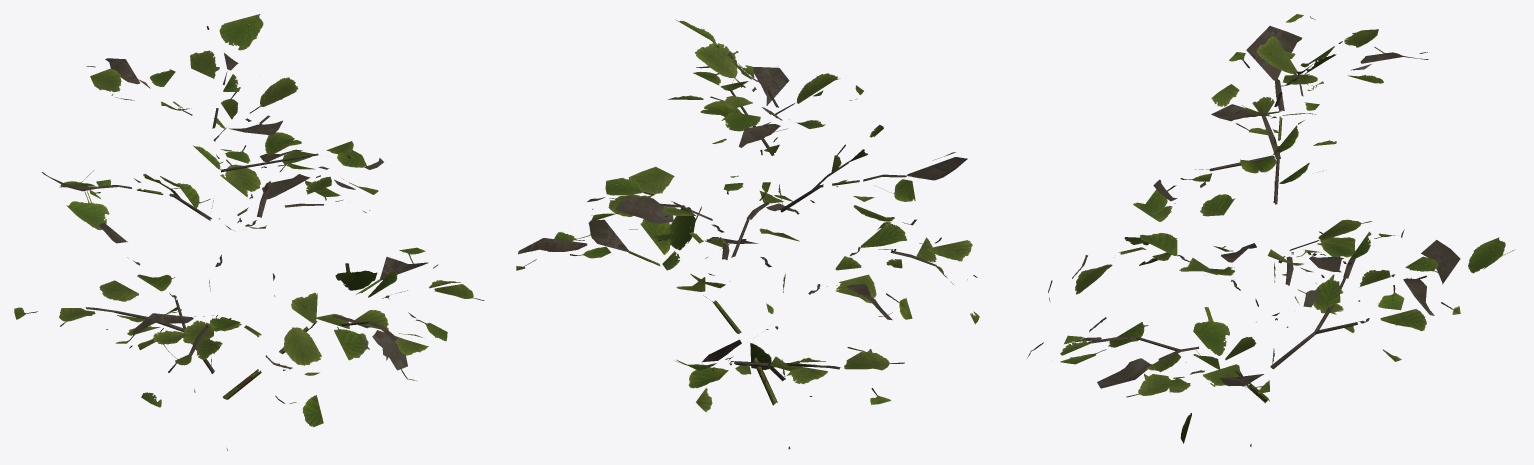
File: SM_BlackAlder_Seedling_02_PP_LOD2.gltf
3 renders of one model, left to right at view 1: azimuth 30°, elevation 25°; view 2: azimuth 150°, elevation 25°; view 3: azimuth 270°, elevation 25°, orthographic. The views are drawn at different scales.
Parts seen in each view (by area): view 1: SM_BlackAlder_Seedling_02_PP; view 2: SM_BlackAlder_Seedling_02_PP; view 3: SM_BlackAlder_Seedling_02_PP.
Part boxes in pixels (x1=…): SM_BlackAlder_Seedling_02_PP: x1=14, y1=14, x2=484, y2=450; SM_BlackAlder_Seedling_02_PP: x1=516, y1=19, x2=979, y2=449; SM_BlackAlder_Seedling_02_PP: x1=1027, y1=14, x2=1515, y2=446.
Bounding box in the file's own units: 0.8631 × 0.8592 × 0.9091.
1 material, 1 textured.
